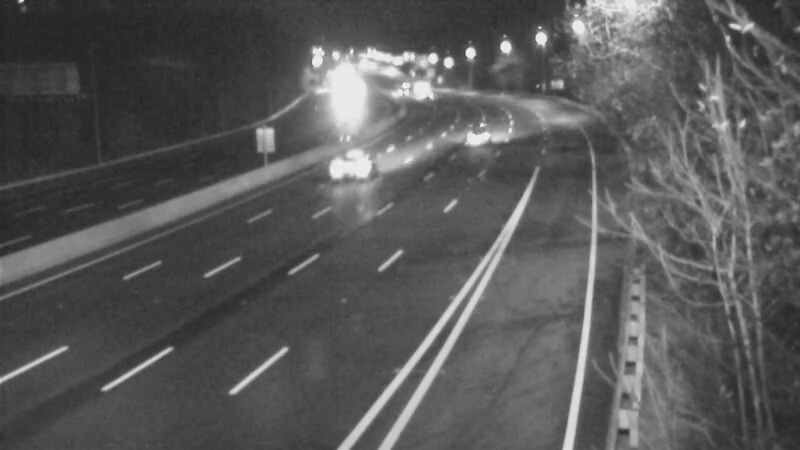vehicle: (316, 128, 396, 208), (374, 68, 424, 118), (402, 74, 452, 124), (451, 111, 501, 161)
